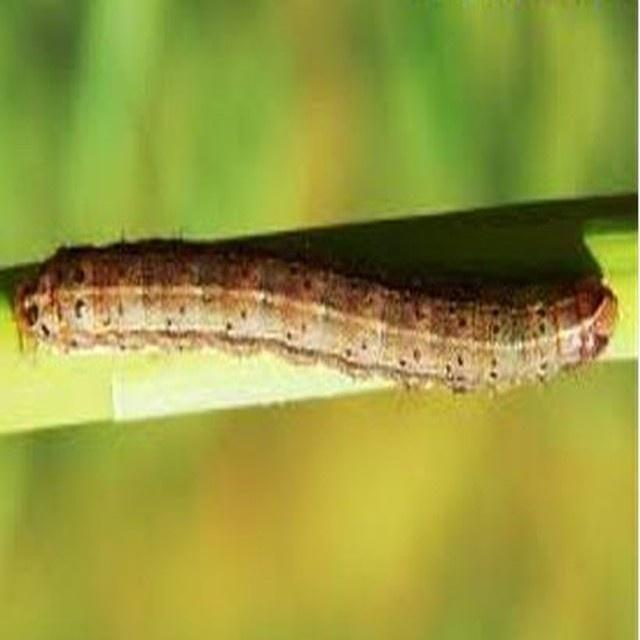gusano_cogollero: (20, 238, 623, 395)
